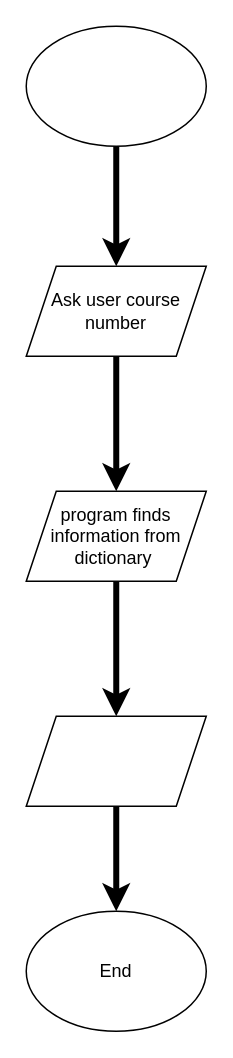
The diagram is 233 pixels wide and 1058 high, and some of its shapes have lost their labels. Here are the shapes that lost their labels. From the top down, the centre of each, then its label:
At point 115,85: "Start".
At point 115,760: "program outpost information".
